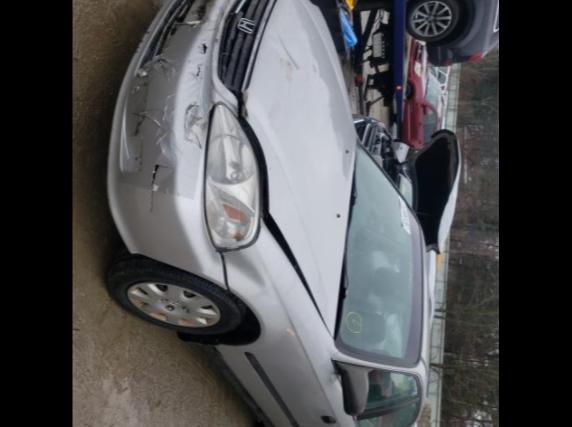Broken part: (106, 0, 248, 290), (236, 114, 328, 332), (218, 0, 276, 90)
Dent: (222, 252, 264, 292), (242, 90, 250, 121)
Flaking: (190, 0, 214, 24), (136, 142, 144, 174)
